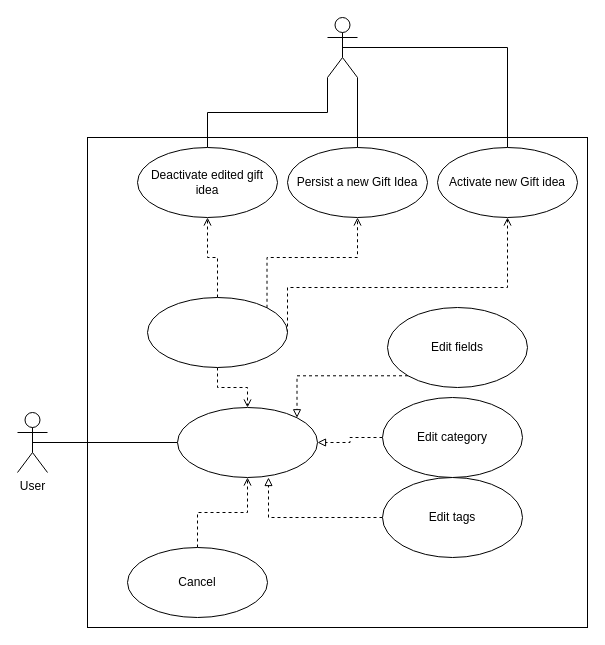
This 605x645 diagram has some shape labels left out. Here are the shapes that lost their labels. From the top down, the centre of each, then its label:
At point (342, 47): "System".
At point (217, 332): "Save".
At point (247, 442): "Edit a Gift Idea".
